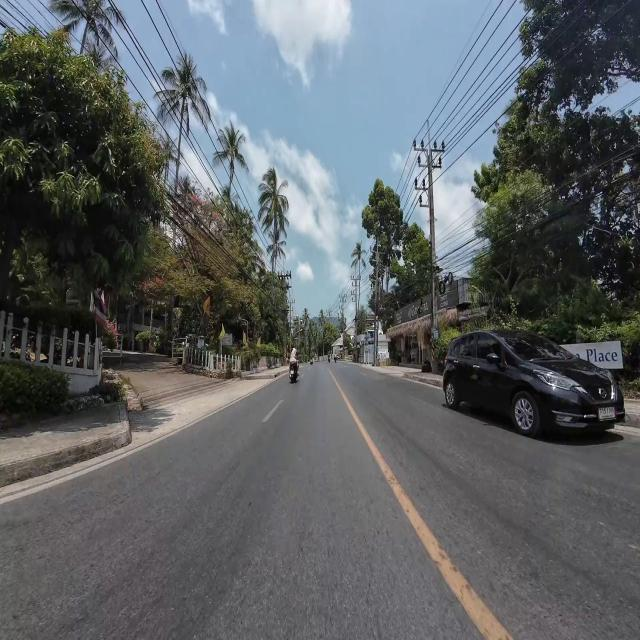car: (443, 331, 624, 437)
motorcycle: (289, 362, 298, 382)
